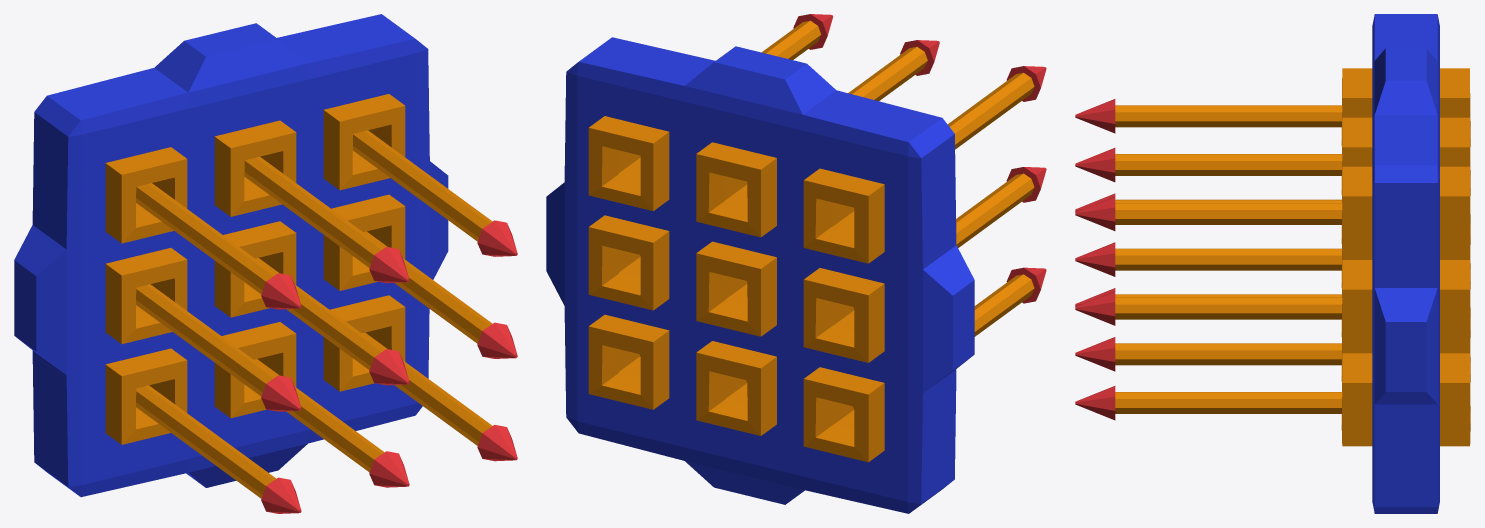
Rendered from engel1.fbx.
3 renders of one model, left to right at view 1: azimuth 30°, elevation 25°; view 2: azimuth 150°, elevation 25°; view 3: azimuth 270°, elevation 25°, orthographic. The views are drawn at different scales.
Visible parts, largest first — view 1: Cube.004, Cylinder.001; view 2: Cube.004, Cylinder.001; view 3: Cube.004, Cylinder.001.
Part boxes in pixels (x1,y1,x2,y2): Cube.004: [14, 14, 448, 497]; Cylinder.001: [136, 130, 517, 513]; Cube.004: [546, 37, 974, 513]; Cylinder.001: [639, 14, 1046, 409]; Cube.004: [1341, 14, 1470, 513]; Cylinder.001: [1075, 99, 1342, 420].
Size of the model in its own units: 318 by 318 by 285.
